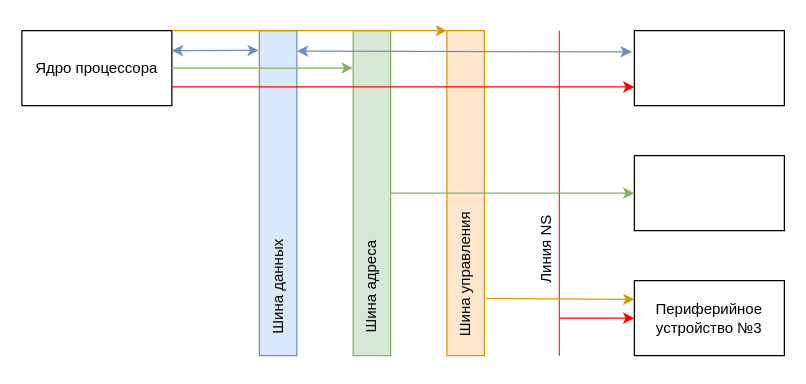
The diagram is 806 pixels wide and 384 high, and some of its shapes have lost their labels. The shapes that lost their labels are listed below. From the top down, each one's box as (x1, y1, x2, y2) in pixels, then its label:
(633, 29, 784, 106): Периферийное устройство №1
(633, 154, 784, 231): Периферийное устройство №2
